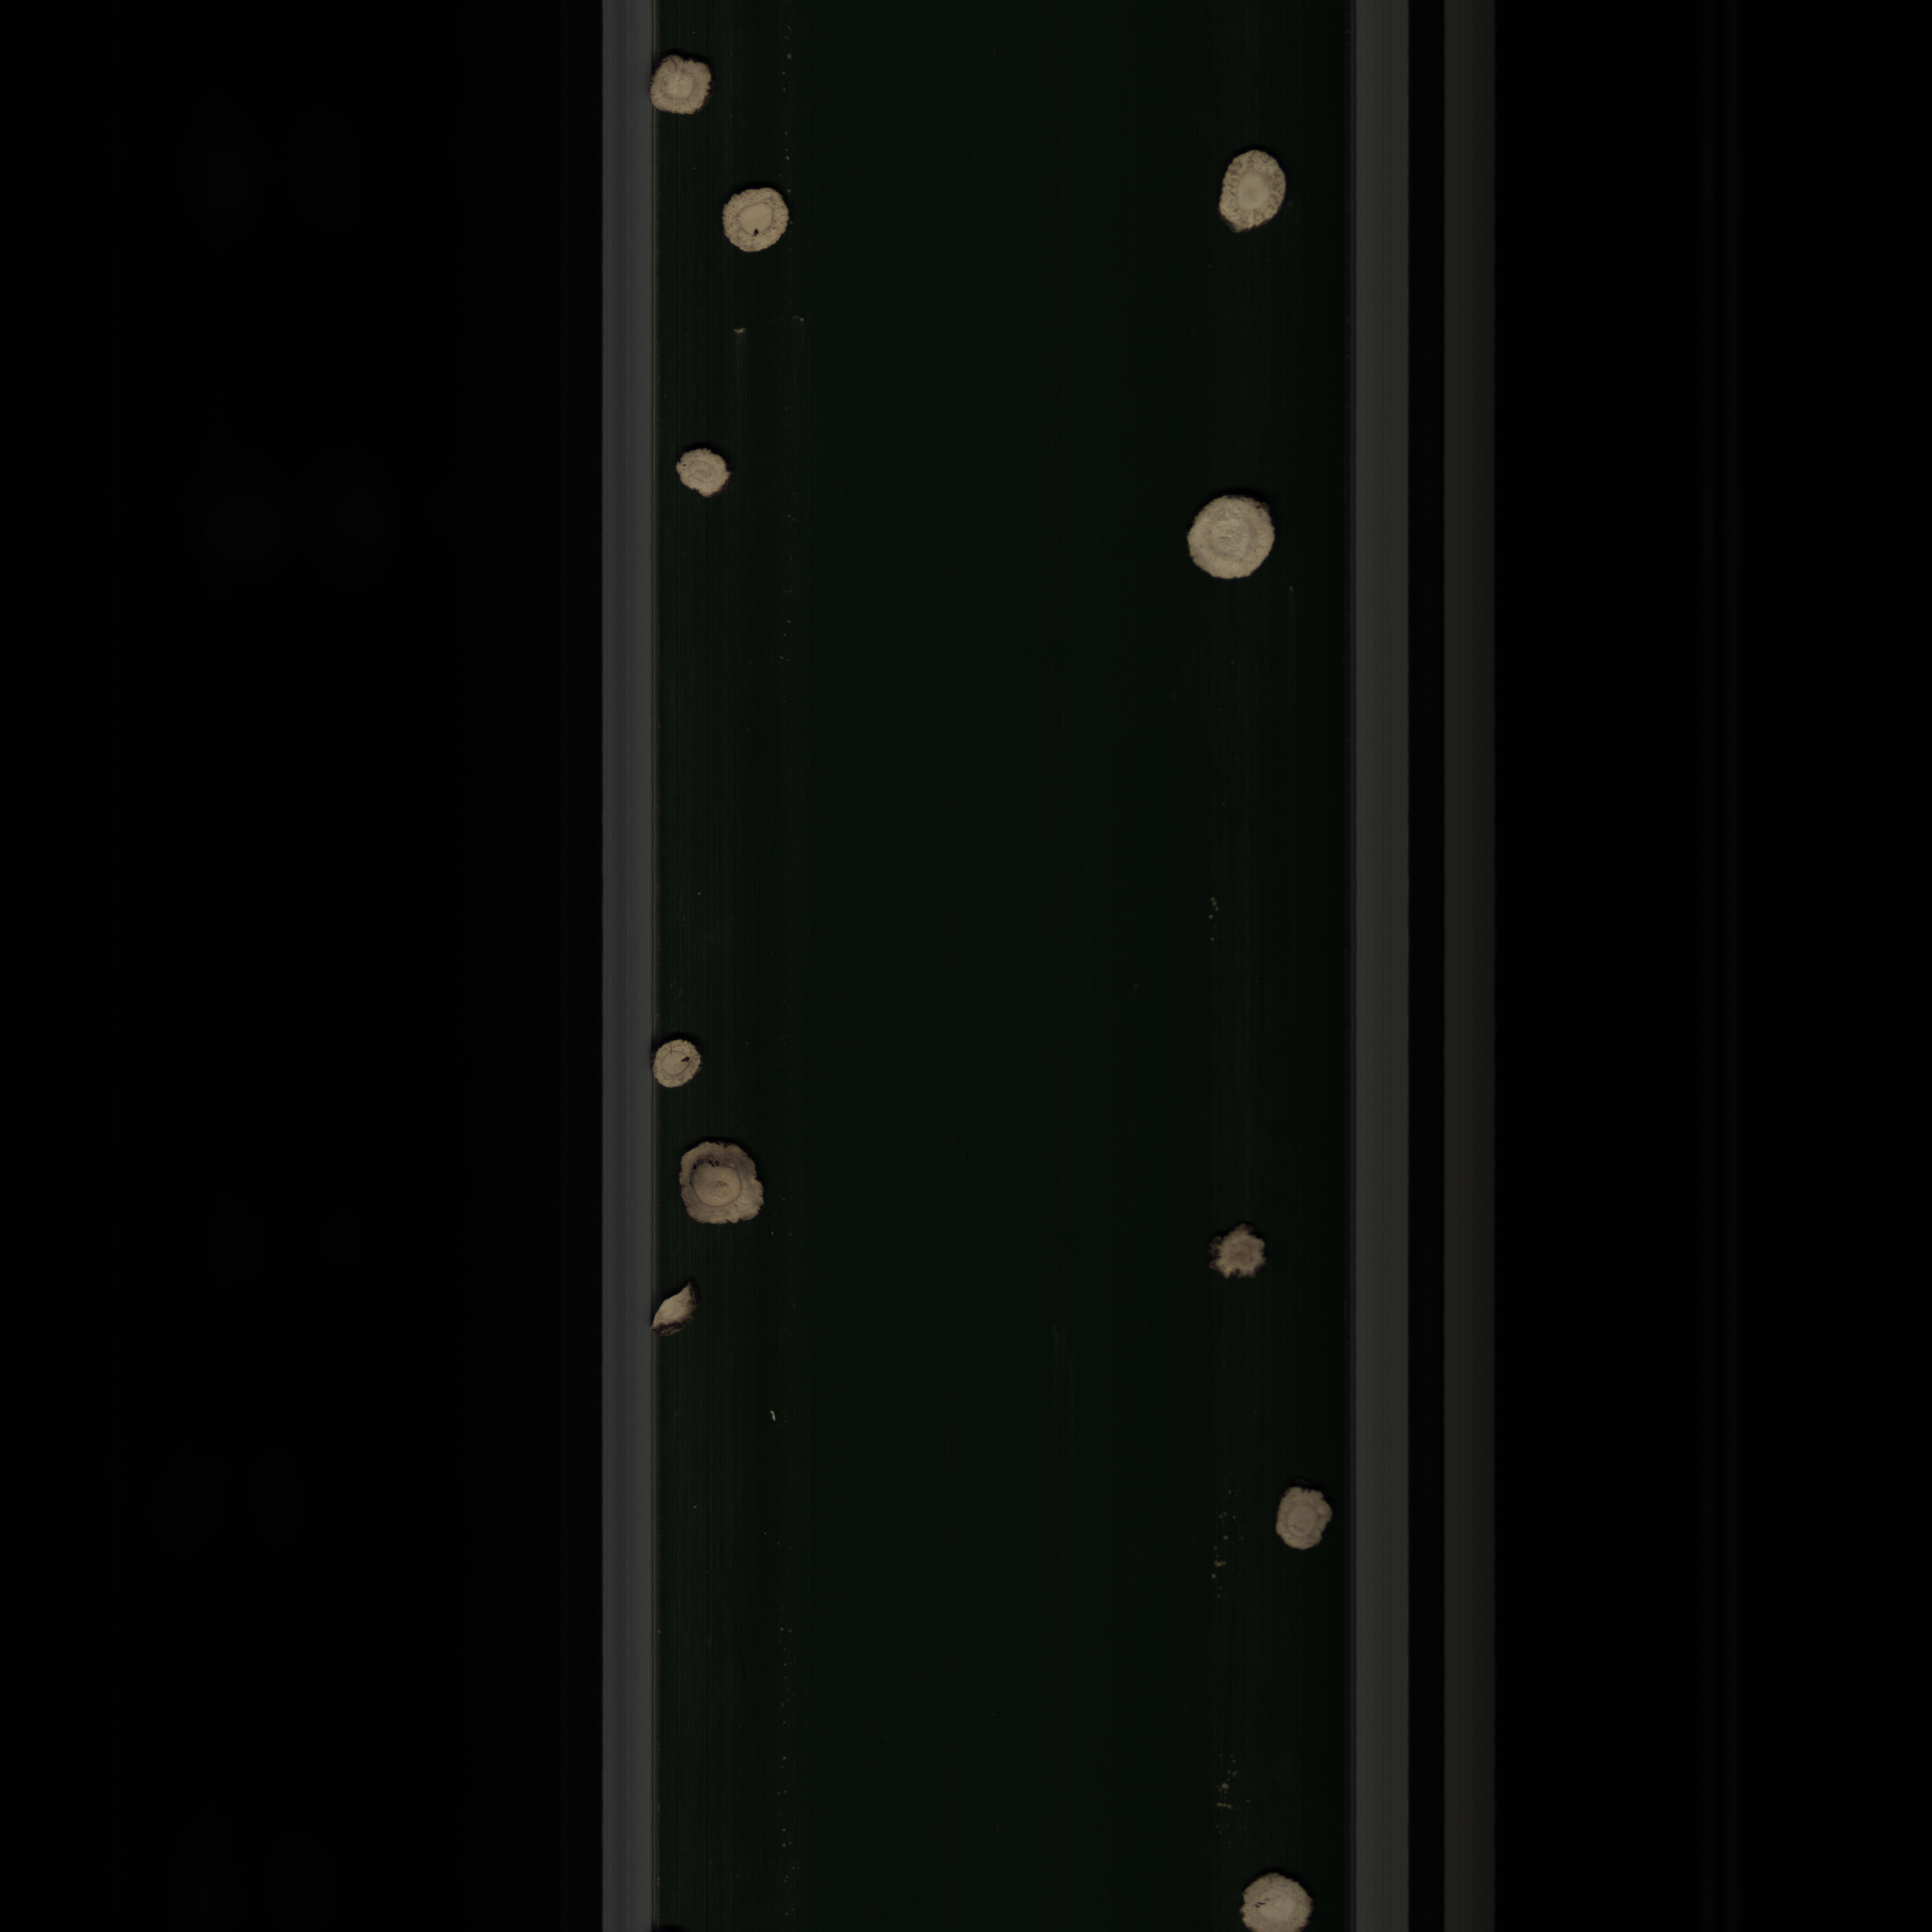debris: (1260, 1477, 1338, 1562), (649, 1279, 699, 1341)
hole: (718, 184, 807, 262), (649, 1040, 711, 1090)
moldy: (678, 1132, 777, 1238), (1210, 1219, 1272, 1292)
